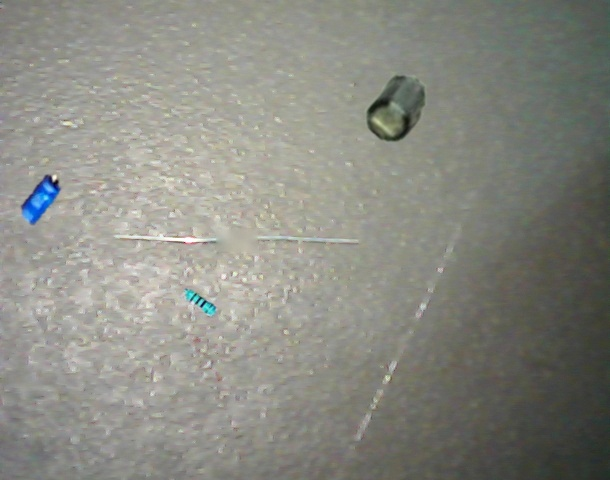capacitor: (366, 75, 426, 142), (21, 174, 61, 226)
resistor: (180, 288, 218, 318)
